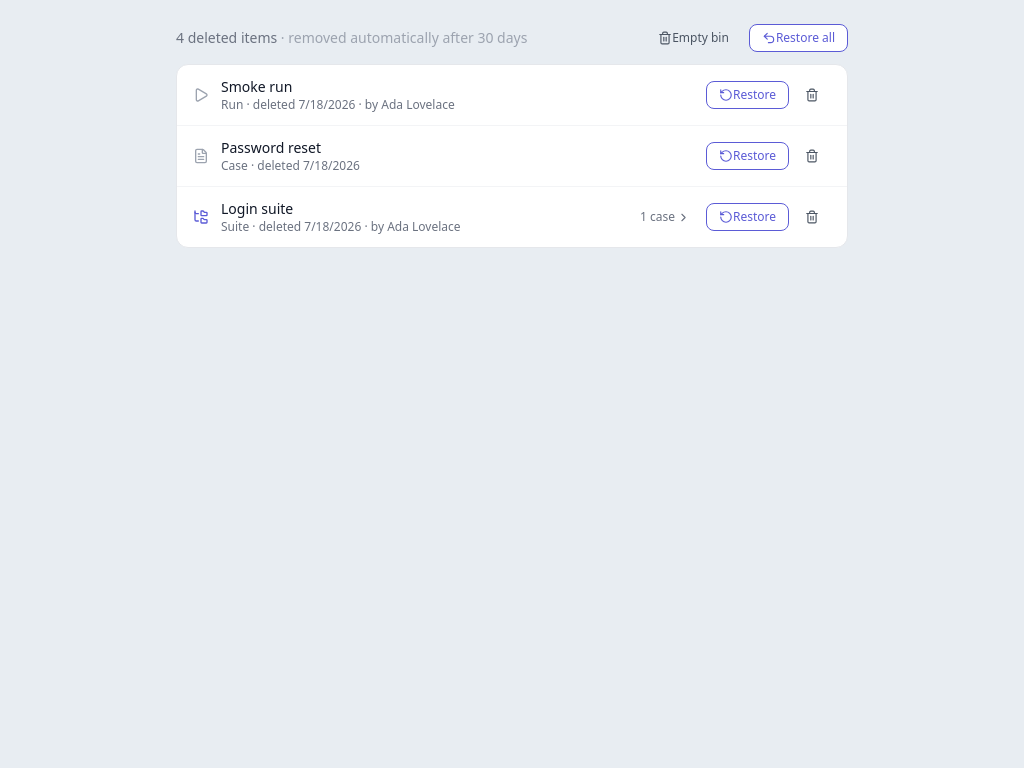
it: RecycleBin › nests a suite's child cases in a side panel instead of the top-level list
The width and height of the screenshot is (1024, 768).
Expected: the text "Login suite" is shown, [221,199,293,218]
Expected: the text "Add to cart" is not shown
Click the button with aria-label "view 1 deleted case in login suite". click: (665, 217)
box: [632,205,698,229]
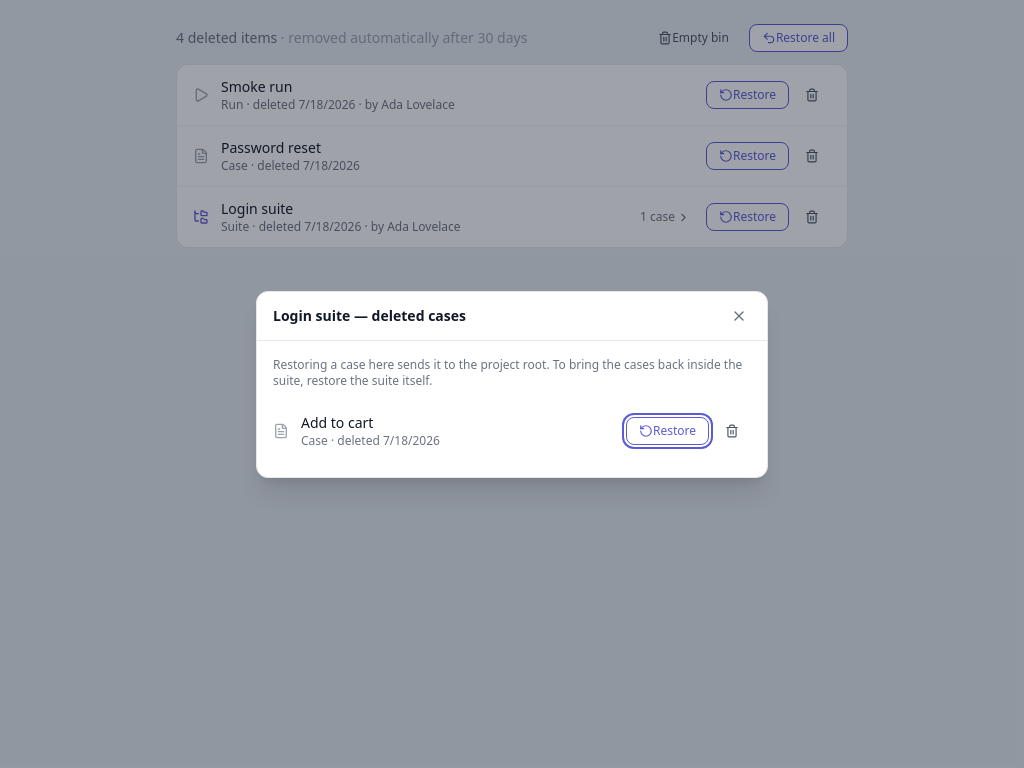
Now the text "Add to cart" is shown, box [301,412,373,432]
